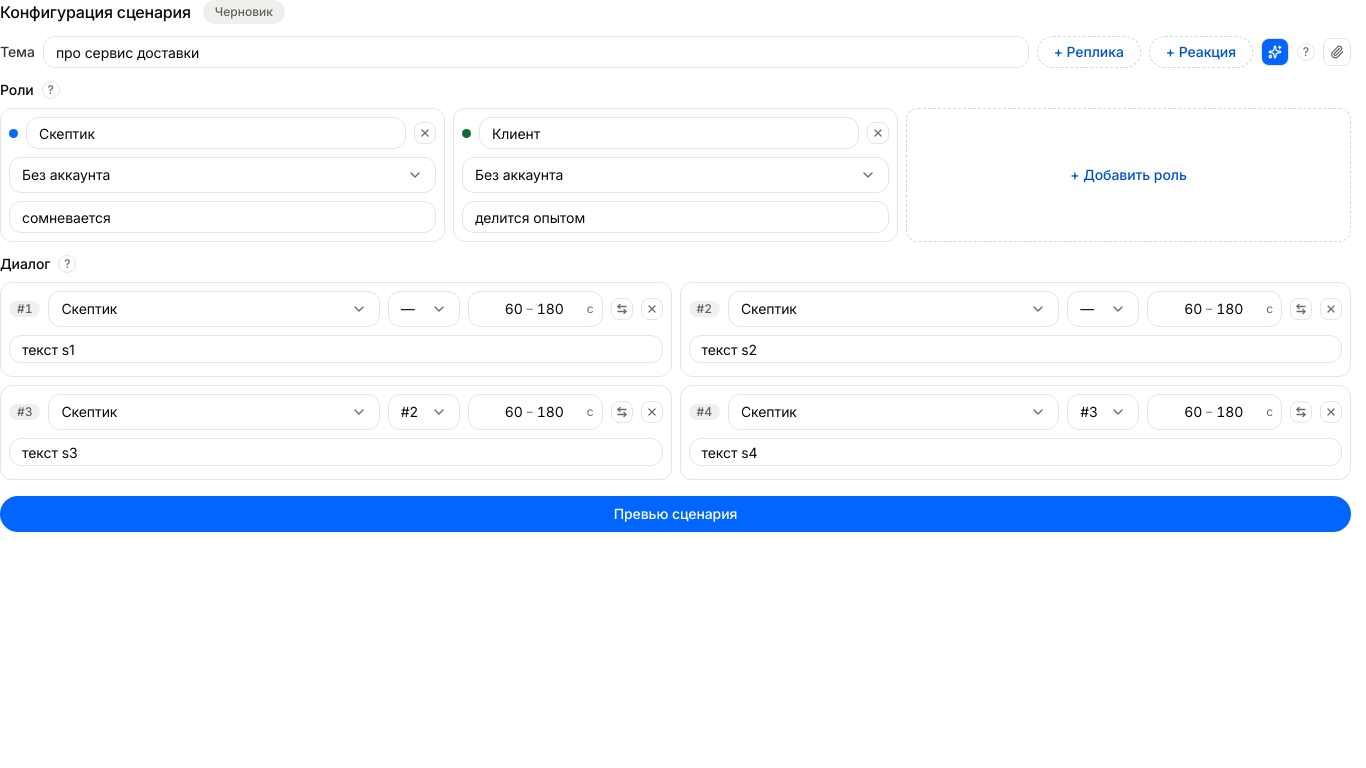
removing a step renumbers every link that pointed past it
Click the button named "Удалить шаг 2" at {"x": 1331, "y": 309}, box [1320,298,1342,320]
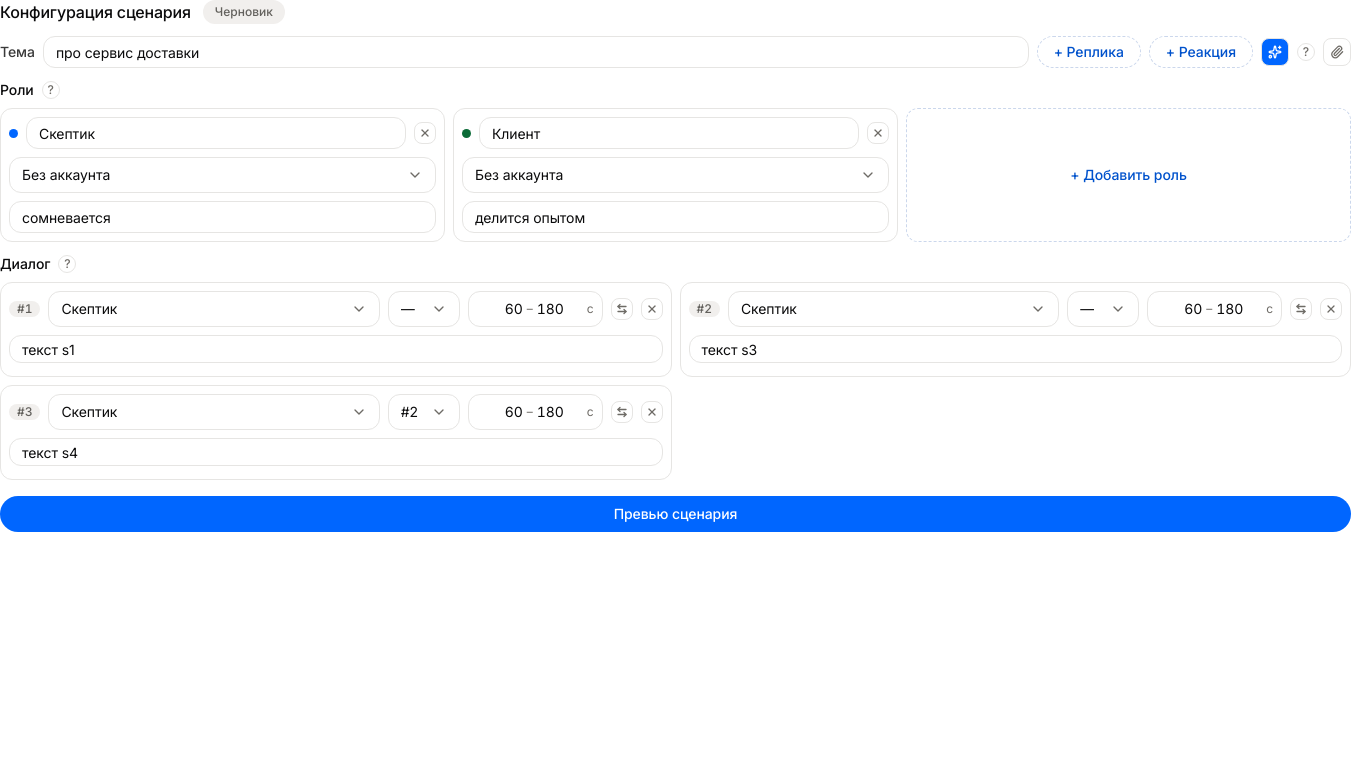
Expected: the dropdown named "Шаг 2 отвечает на" reads "—", [1067,291,1139,327]
Expected: the dropdown named "Шаг 3 отвечает на" reads "#2", [388,394,460,430]
The media slot is a one-based position into the same list.
Click the button named "Вложение" at {"x": 1337, "y": 52}, box [1323,38,1351,66]
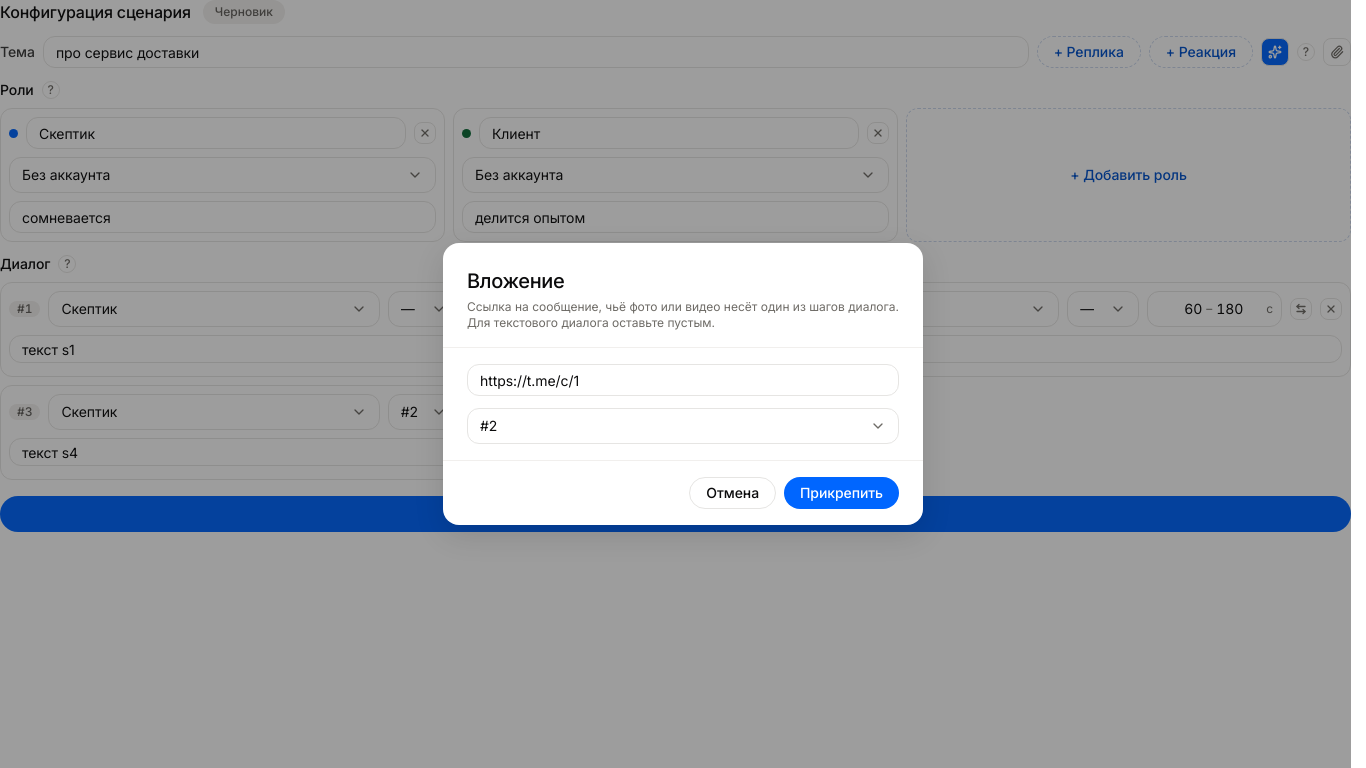
Result: the dropdown named "Шаг с медиа" reads "#2" at [467,408,899,444]
